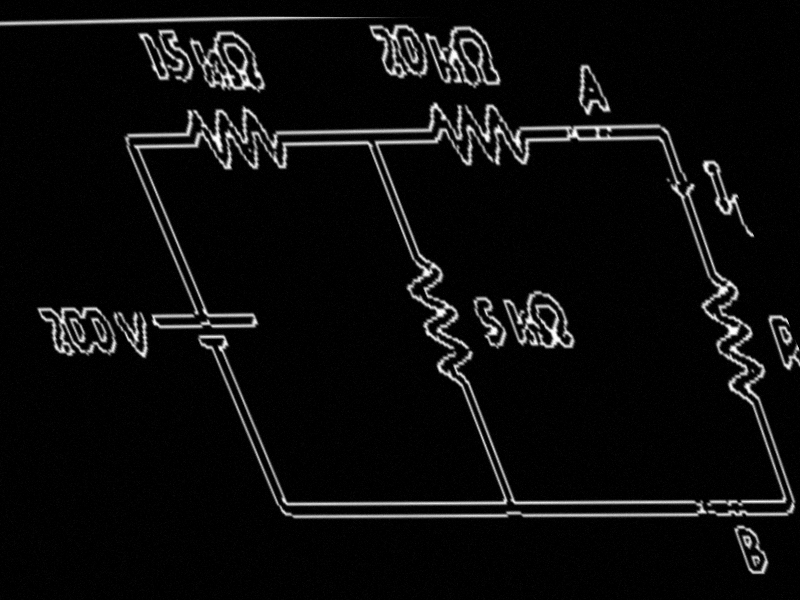0: (385, 22, 439, 79), (52, 300, 101, 355), (77, 304, 125, 356)
1: (134, 29, 176, 85)
2: (365, 23, 414, 81), (33, 305, 78, 357)
5: (467, 294, 515, 350), (153, 28, 200, 83)
A: (561, 62, 619, 118)
V: (108, 308, 165, 359)
k: (420, 29, 470, 89), (498, 296, 547, 352), (185, 36, 232, 92)
